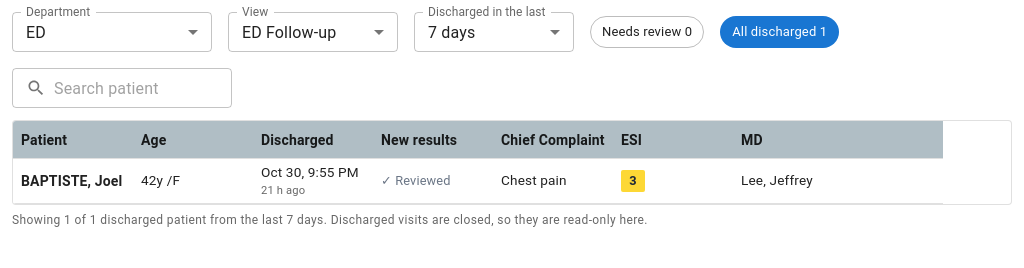
Scenario: nothing to review says so, and All discharged is still there
Expected: the row with test id "fu-row-3" is shown, [13,159,943,204]
What coordinates should you click on to do the following:
click the button with test id "chip-review"
I would click on:
 (647, 32)
Its box is [590,16,704,48].
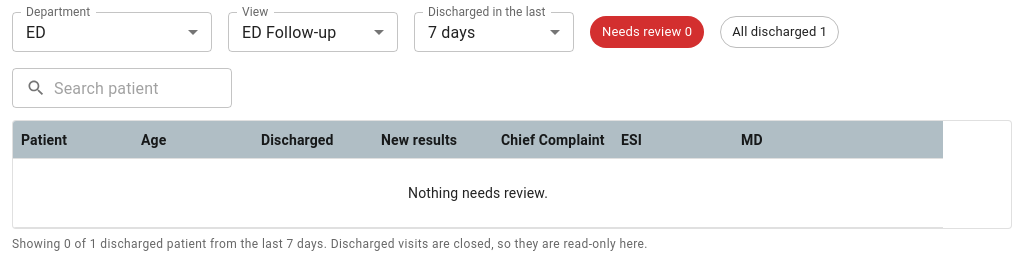
Expected: the cell with test id "fu-empty" reads "Nothing needs review.", [408,185,548,201]
